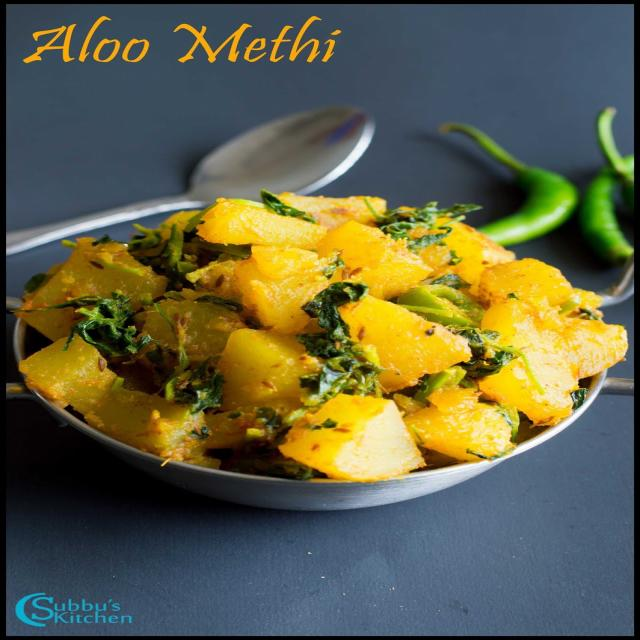Aloo Methi: (9, 197, 627, 482)
